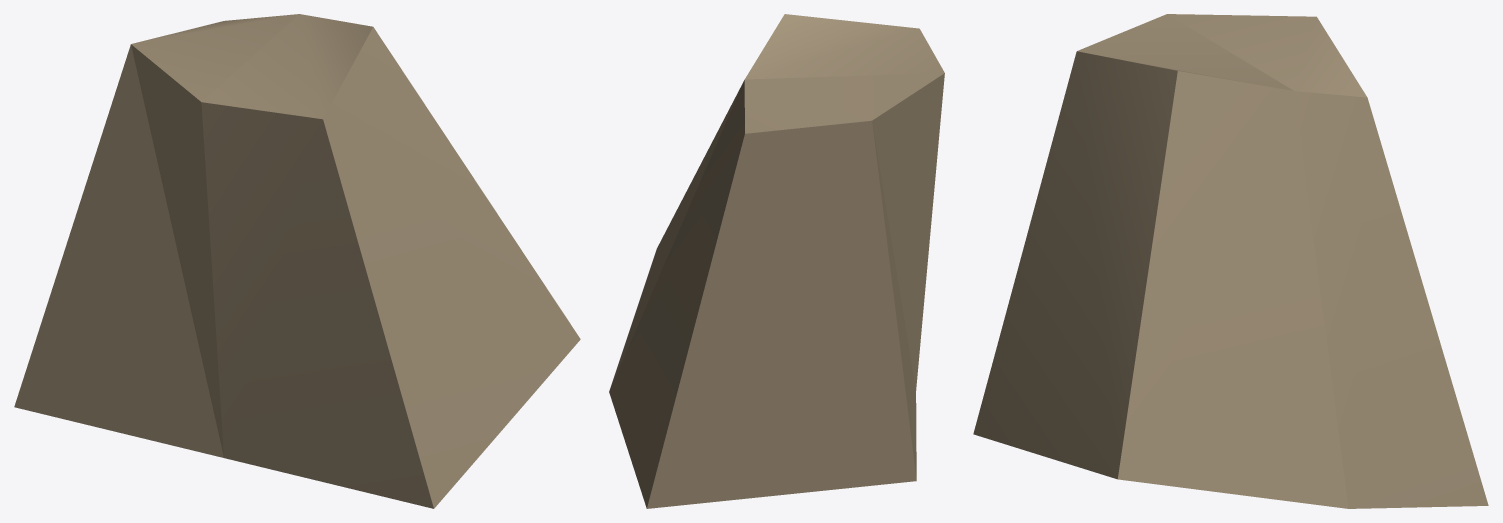
The model's file is rock_tall_lrg_p_04.fbx.
3 views of the same model, side by side, from view 1: azimuth 30°, elevation 25°; view 2: azimuth 150°, elevation 25°; view 3: azimuth 270°, elevation 25° (orthographic). The views are drawn at different scales.
Parts seen in each view (by area): view 1: rock_tall_lrg_p_04; view 2: rock_tall_lrg_p_04; view 3: rock_tall_lrg_p_04.
Part boxes in pixels (<box>): rock_tall_lrg_p_04: <box>14,14,580,508</box>; rock_tall_lrg_p_04: <box>609,14,944,508</box>; rock_tall_lrg_p_04: <box>973,14,1488,508</box>.
Size of the model in its own units: 41 by 40.63 by 43.53.
